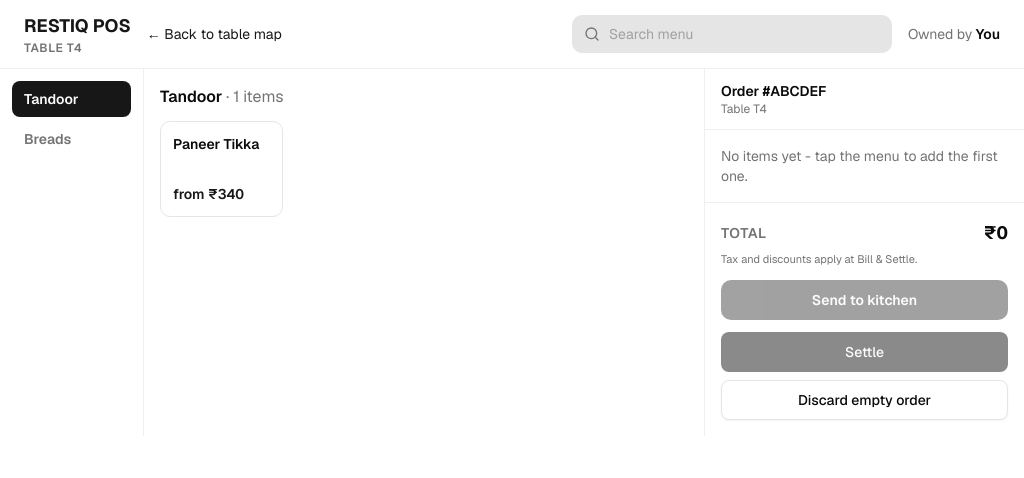
Test case: OrderTakingView › adding an item with no required modifiers works directly - no sheet needed, item name resolved from the menu
Click the button with test id "category-tab-cat-breads".
click(72, 139)  # box [12, 121, 131, 157]
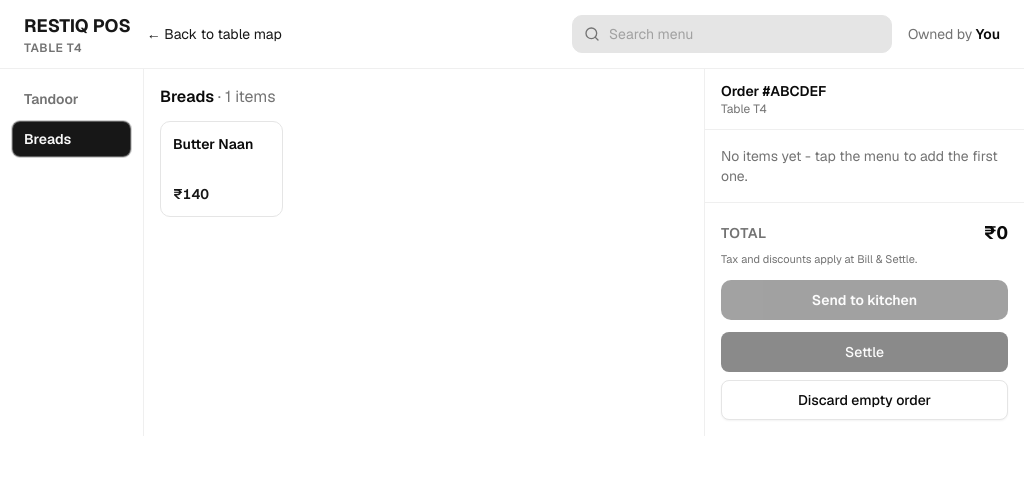
Click the button with test id "item-tile-item-naan".
click(222, 169)  # box [160, 121, 283, 217]
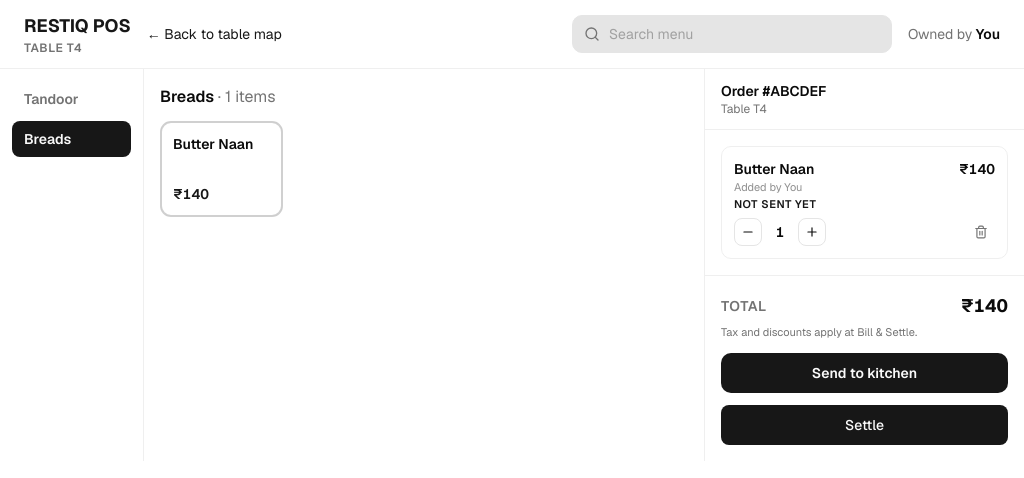
Now the element with test id "order-line-line-1" is shown, box [721, 146, 1008, 259]
Now the text with test id "order-panel-total" reads "₹140", box [961, 294, 1008, 317]
Now the text "Butter Naan" below "Order #" is shown, box [734, 160, 814, 178]
